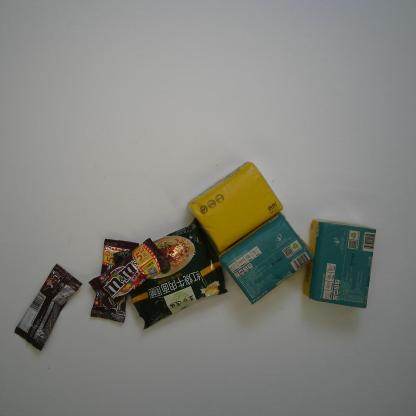Chocolate: (13, 263, 84, 352), (88, 237, 171, 311), (90, 237, 140, 324)
Instant Noodles: (113, 216, 229, 331)
Tissue: (216, 210, 314, 306), (186, 160, 285, 254), (300, 218, 378, 309)
